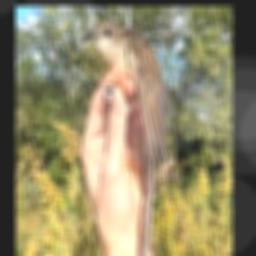Cuckoo: (82, 17, 171, 256)
